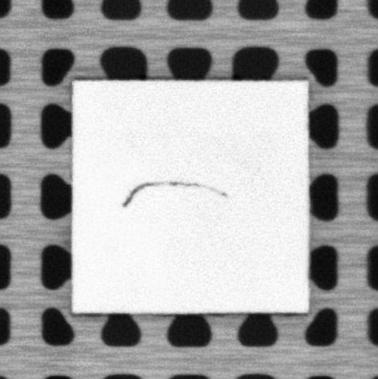DIE_INK: (121, 177, 229, 209)
